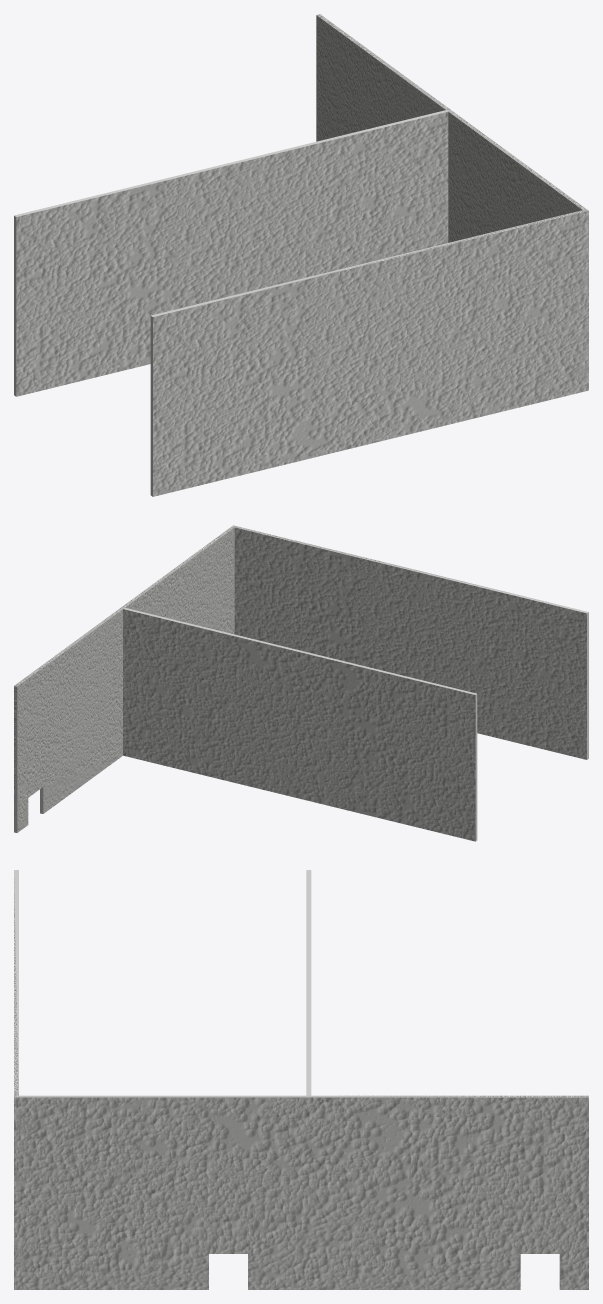
The model's file is bsmt-rooms.fbx.
3 views of the same model, one above another, from view 1: azimuth 30°, elevation 25°; view 2: azimuth 150°, elevation 25°; view 3: azimuth 270°, elevation 25° (orthographic). The views are drawn at different scales.
Visible parts, largest first — view 1: Cube.002; view 2: Cube.002; view 3: Cube.002.
Part boxes in pixels (x1=…): Cube.002: x1=14, y1=14, x2=588, y2=496; Cube.002: x1=14, y1=525, x2=588, y2=841; Cube.002: x1=14, y1=870, x2=588, y2=1289.
Size of the model in its own units: 5525 by 2176 by 5900.
